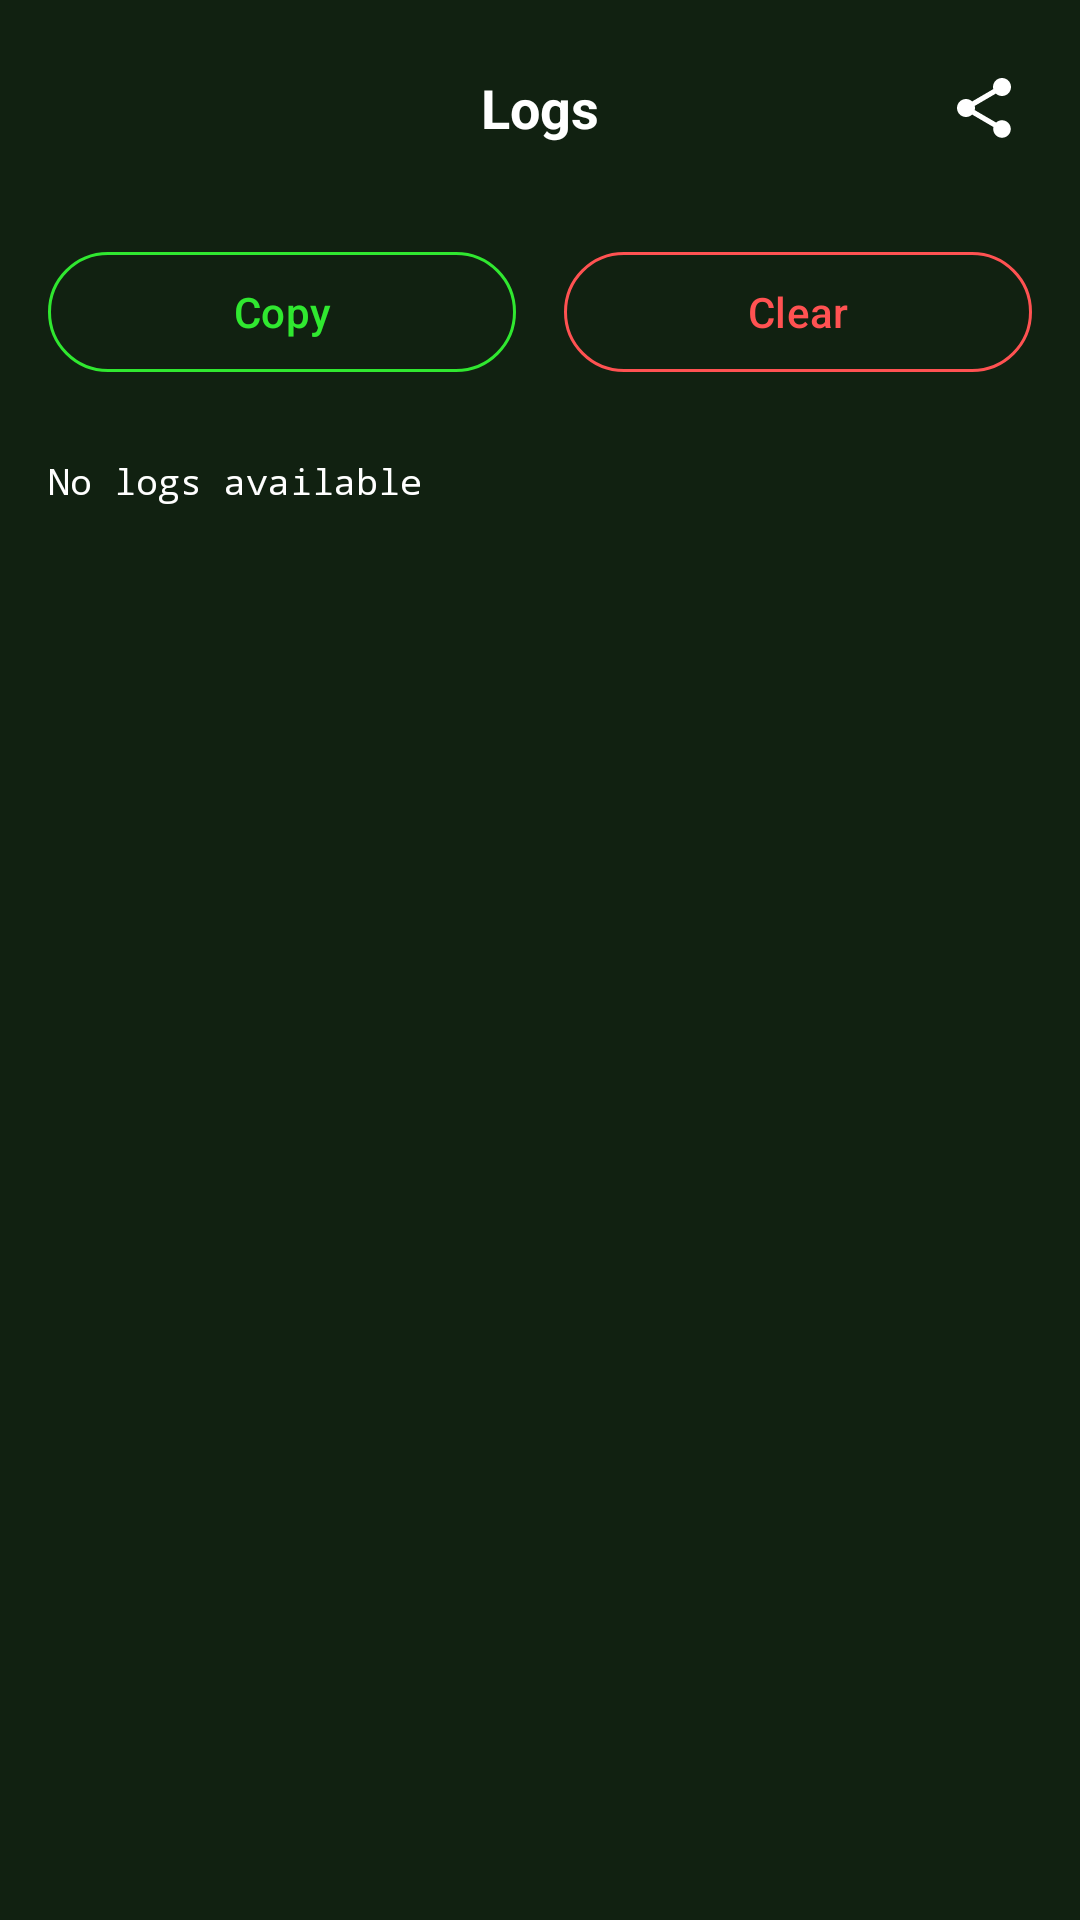

Named icons in this screenshot (1080w x 1920h) and their bounding boxes, BBox(x1, y1, x2, y2):
Share: BBox(957, 78, 1011, 138)
